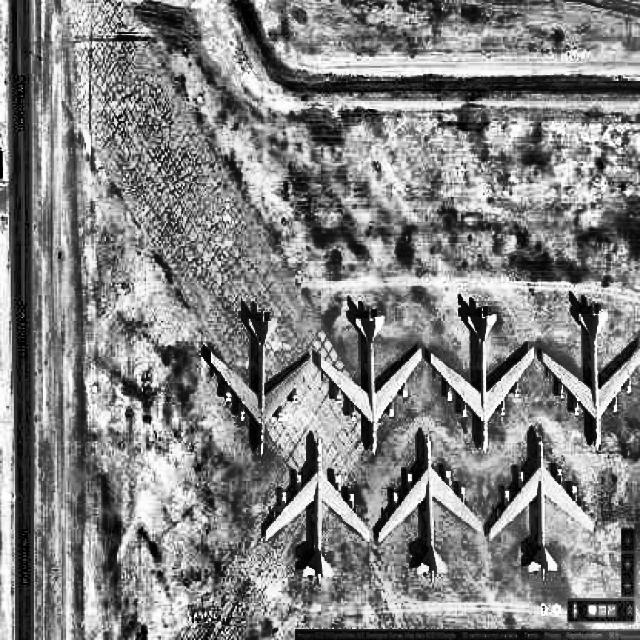B52: (489, 431, 594, 582), (430, 306, 535, 456), (265, 437, 370, 586), (210, 308, 313, 459), (379, 434, 483, 583), (319, 308, 423, 457), (542, 303, 638, 454)
